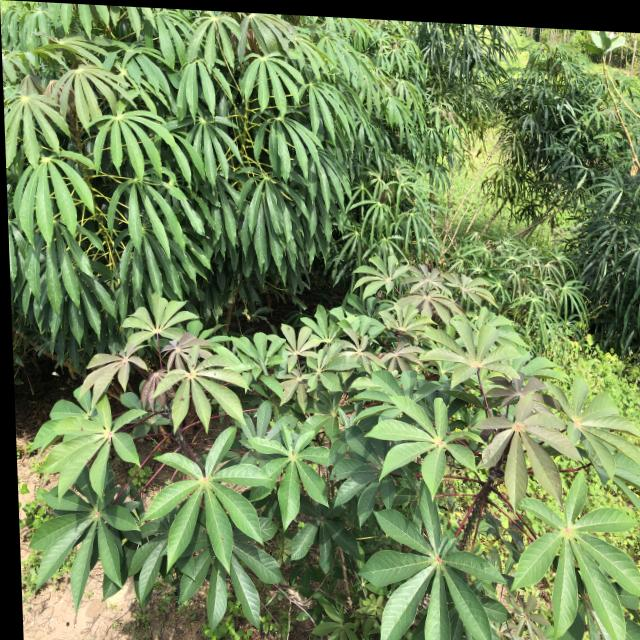Mosca: (190, 541, 209, 560), (73, 419, 88, 439), (211, 367, 224, 387), (171, 393, 189, 406)
